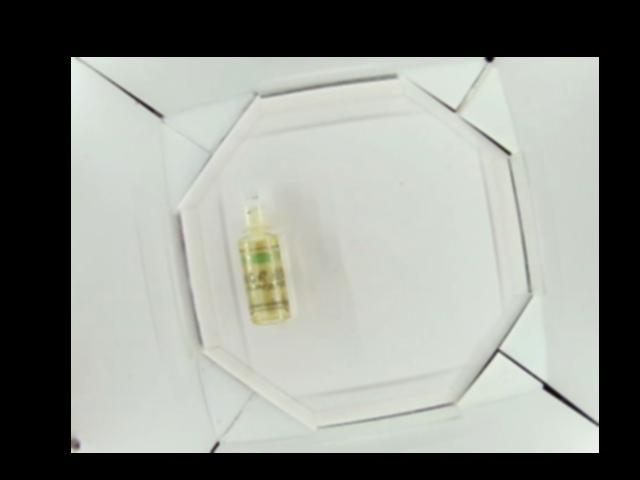Bottle: (231, 189, 294, 325)
